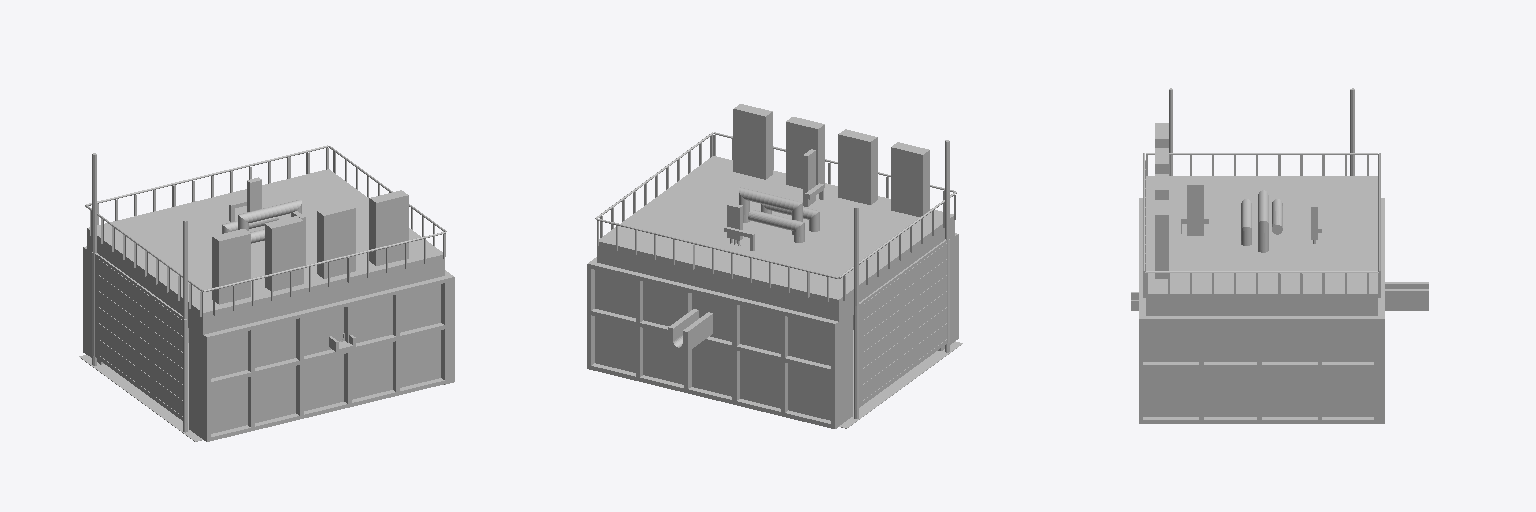
Rendered from homogenezing.obj.
The picture shows the model from 3 angles: view 1: azimuth 30°, elevation 25°; view 2: azimuth 150°, elevation 25°; view 3: azimuth 270°, elevation 25°; orthographic projection.
Parts seen in each view (by area): view 1: Homogenezing_v1, CFF_v1; view 2: Homogenezing_v1, CFF_v1; view 3: Homogenezing_v1, CFF_v1.
Boxes of the visible parts, <box> form: Homogenezing_v1: <box>79,145,454,441</box>; CFF_v1: <box>222,177,355,351</box>; Homogenezing_v1: <box>587,104,962,428</box>; CFF_v1: <box>668,149,823,351</box>; Homogenezing_v1: <box>1139,88,1384,423</box>; CFF_v1: <box>1131,183,1428,310</box>.
Bounding box in the file's own units: 318 × 250 × 321.